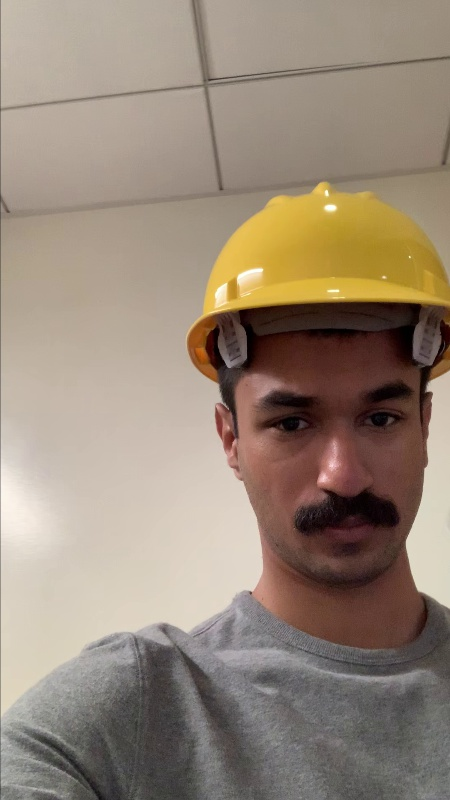helmet: (195, 184, 449, 308)
